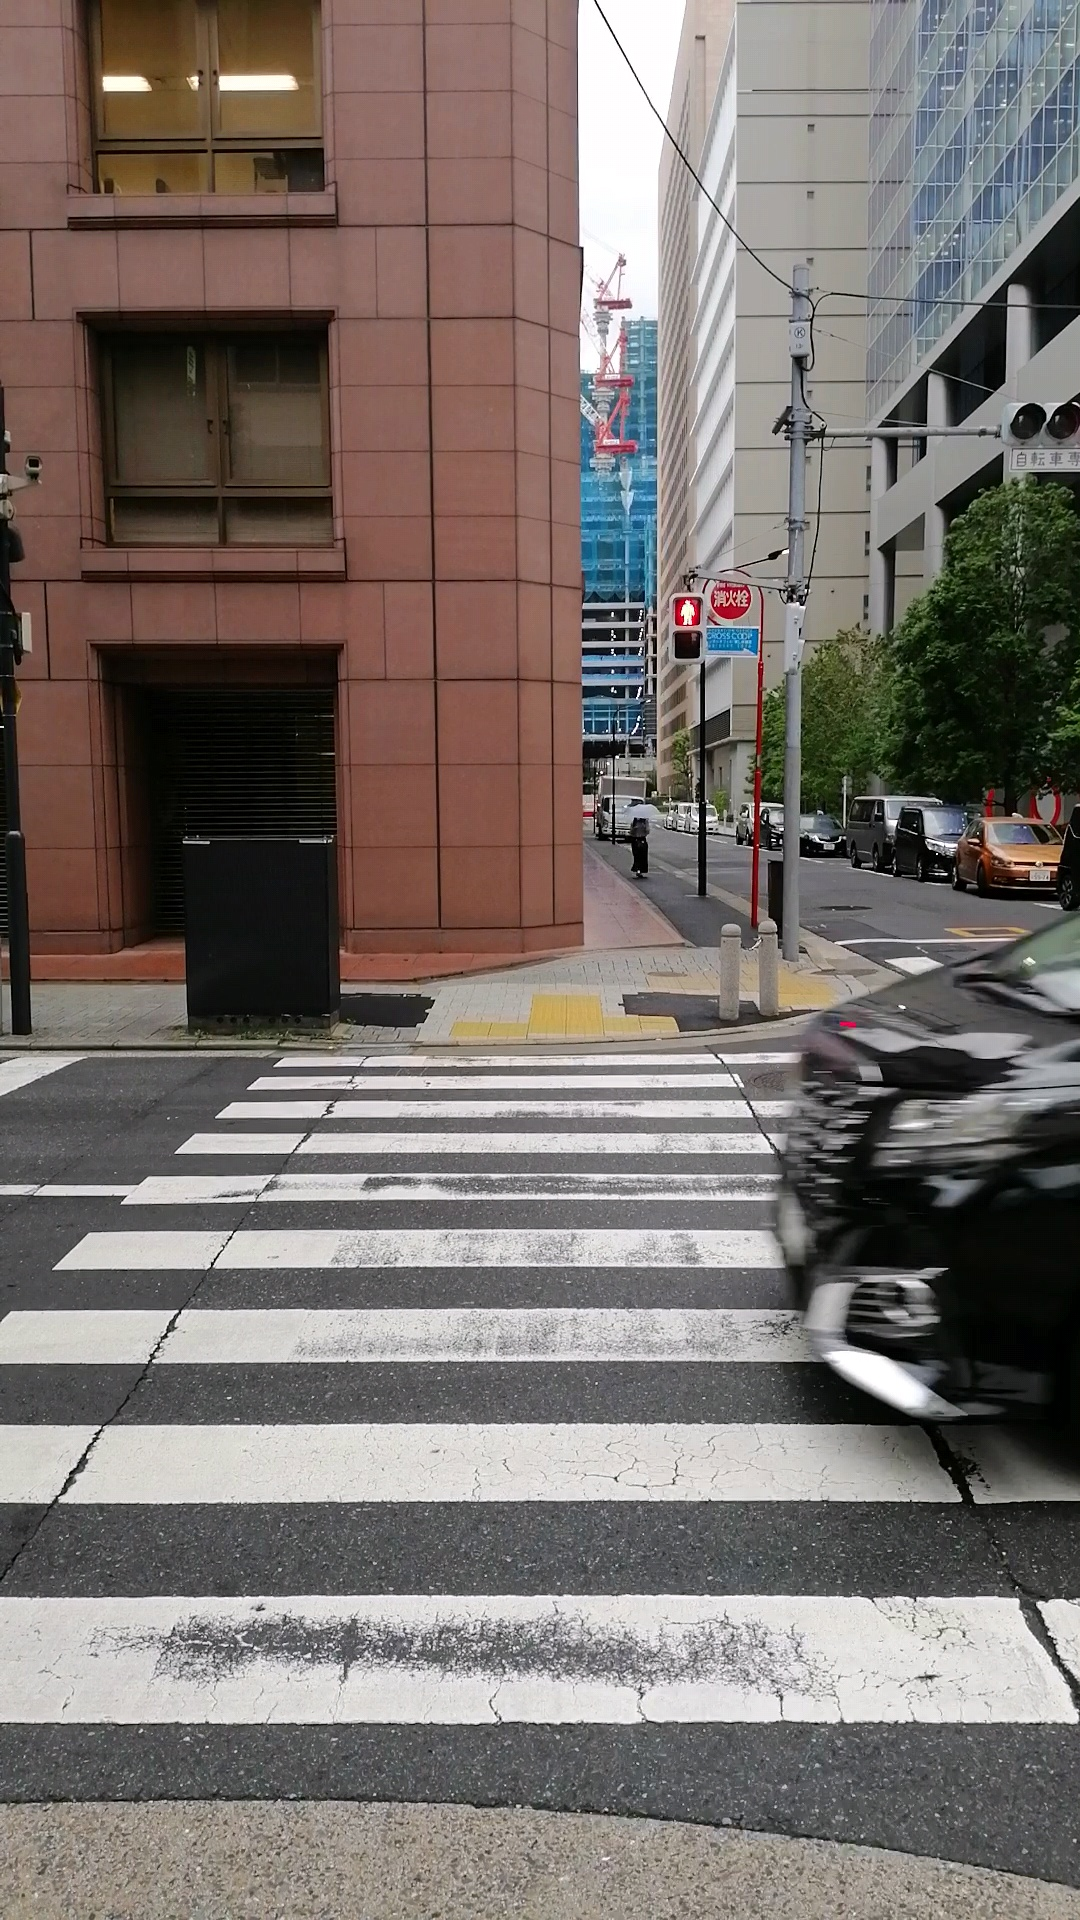red: (667, 589, 705, 665)
